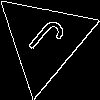J: (19, 15, 67, 68)
